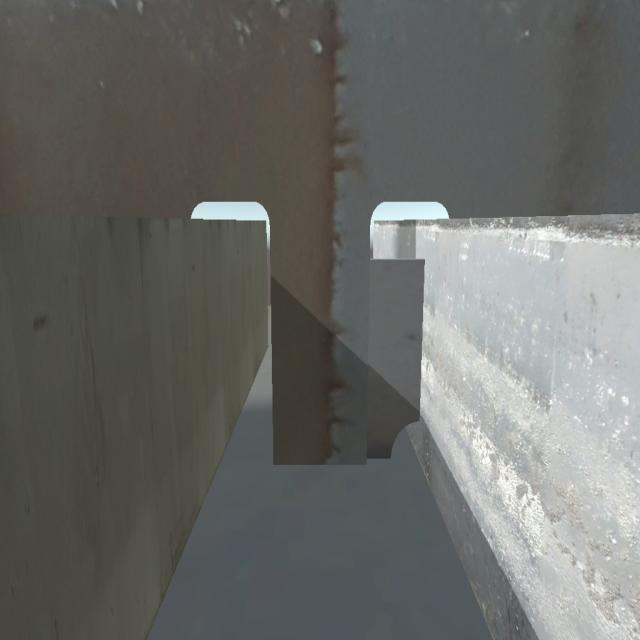fillet_hole: (388, 417, 424, 460)
fillet_yong_jeop_jang: (266, 452, 396, 468)
longi_yong_jeop_jang: (414, 257, 428, 420)
plate_behind: (368, 256, 422, 461)
